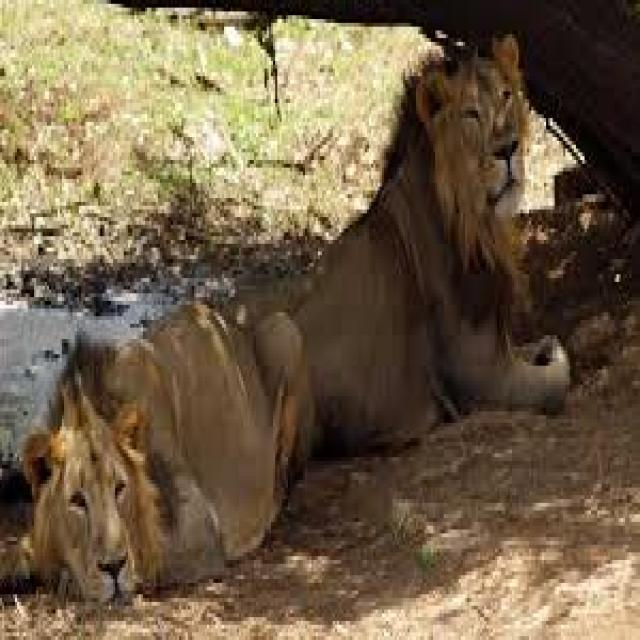Lion: (287, 32, 567, 457), (20, 300, 301, 603)
